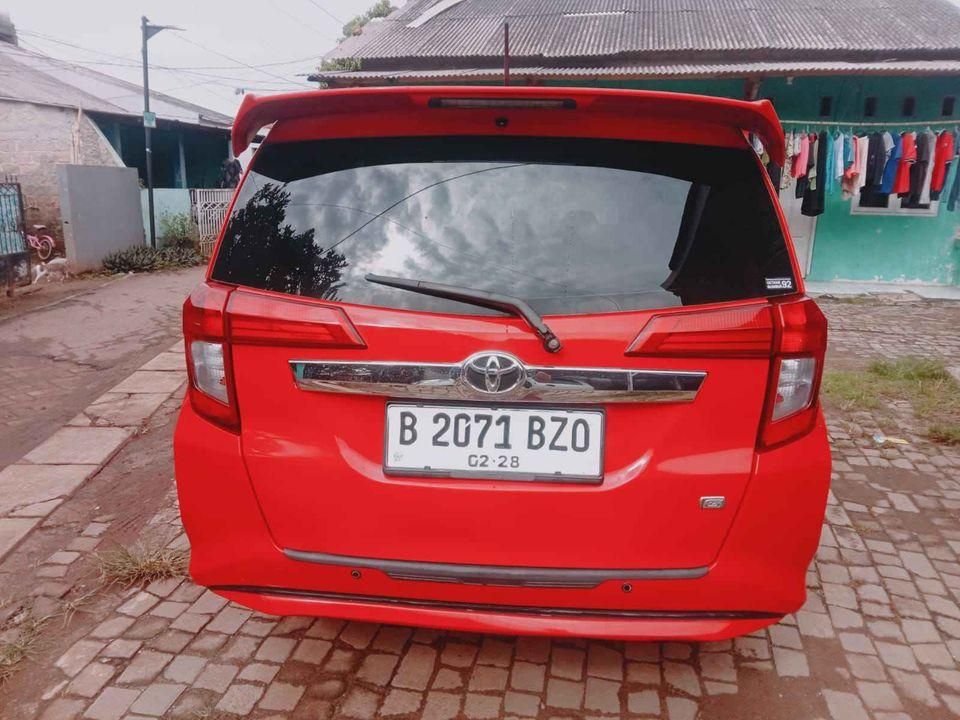plat nomor: (378, 398, 617, 491)
